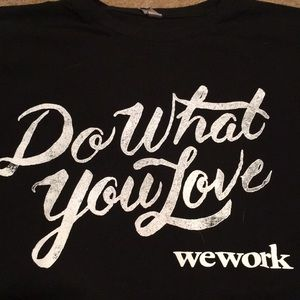wework: (171, 241, 297, 272)
